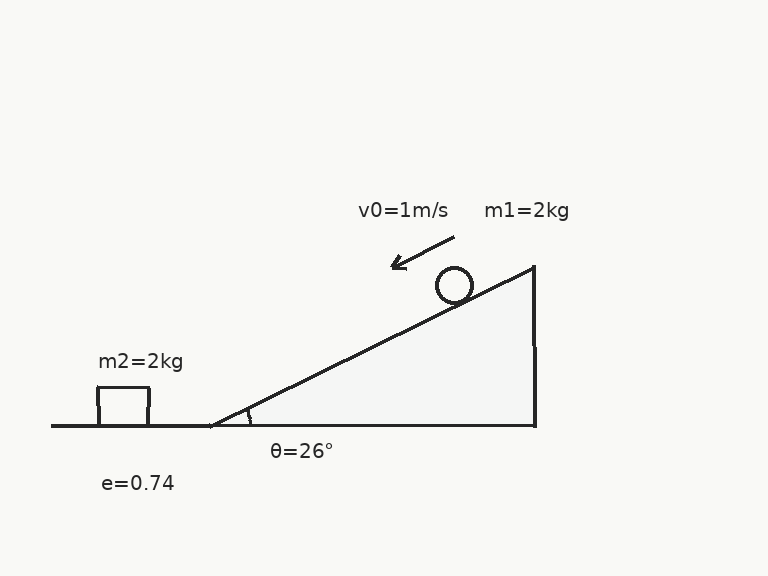ball: (433, 264, 475, 306)
block: (95, 386, 151, 427)
ramp: (208, 265, 536, 427)
